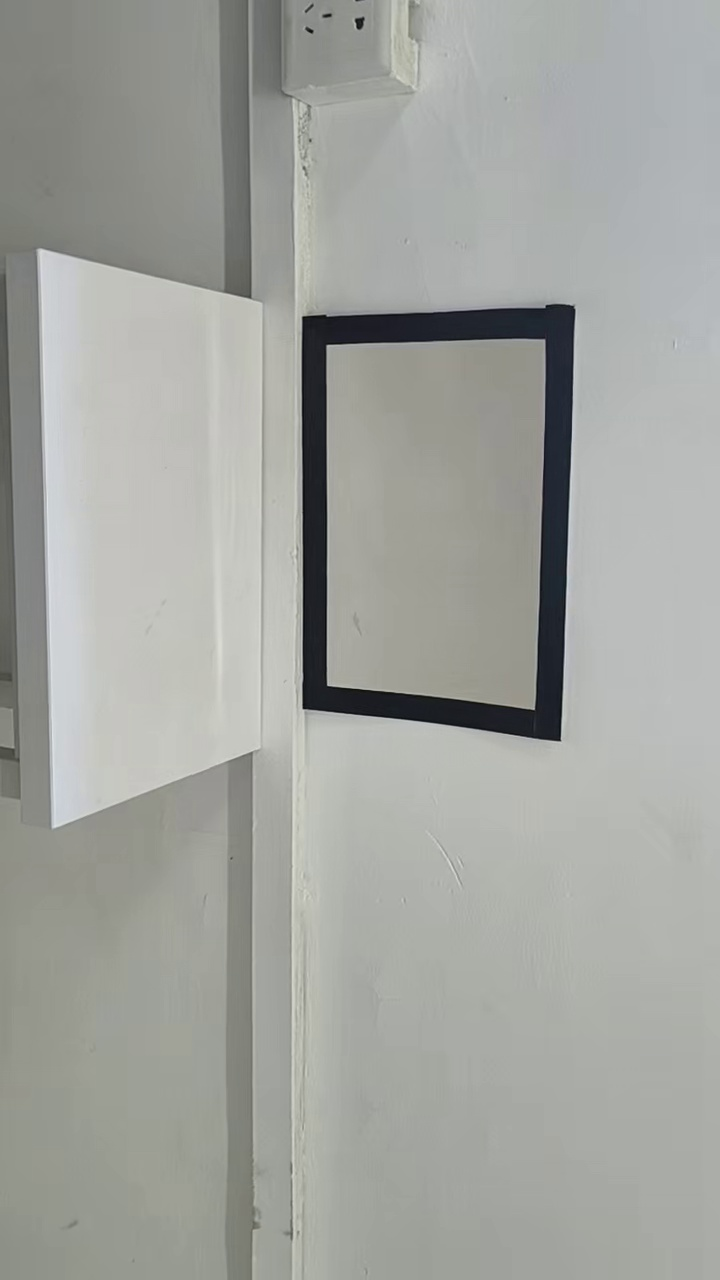board: (305, 309, 576, 738)
